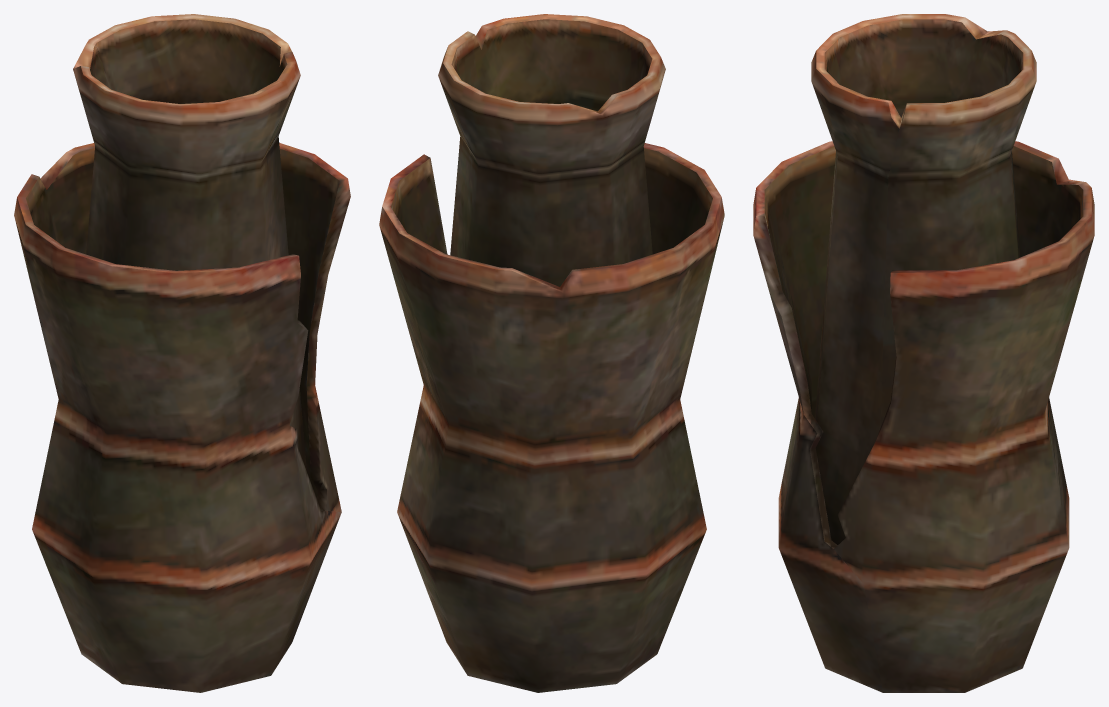
File: kor_vodl_item_ancient_pottery_01.glb
3 views of the same model, side by side, from view 1: azimuth 30°, elevation 25°; view 2: azimuth 150°, elevation 25°; view 3: azimuth 270°, elevation 25° (orthographic).
Visible parts, largest first — view 1: kor_vodl_item_ancient_pottery_01; view 2: kor_vodl_item_ancient_pottery_01; view 3: kor_vodl_item_ancient_pottery_01.
Boxes of the visible parts, x1,y1,x2,y2 form: kor_vodl_item_ancient_pottery_01: (14, 14, 350, 692); kor_vodl_item_ancient_pottery_01: (379, 14, 724, 692); kor_vodl_item_ancient_pottery_01: (753, 14, 1094, 692).
Size of the model in its own units: 0.1159 by 0.2215 by 0.1159.
1 material, 1 textured.
